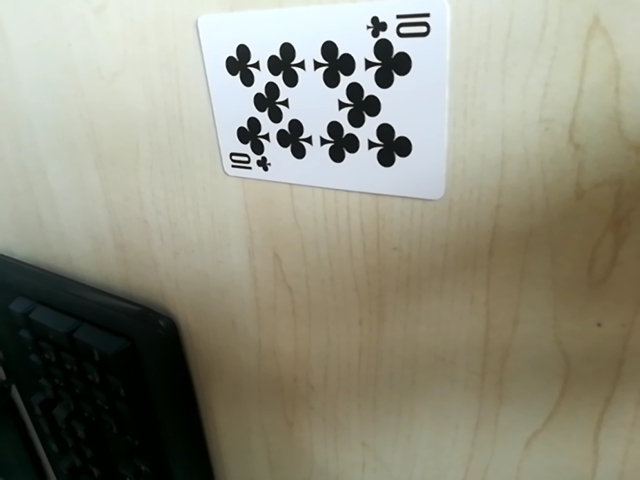mh 10: (367, 9, 439, 39), (221, 148, 274, 181)
